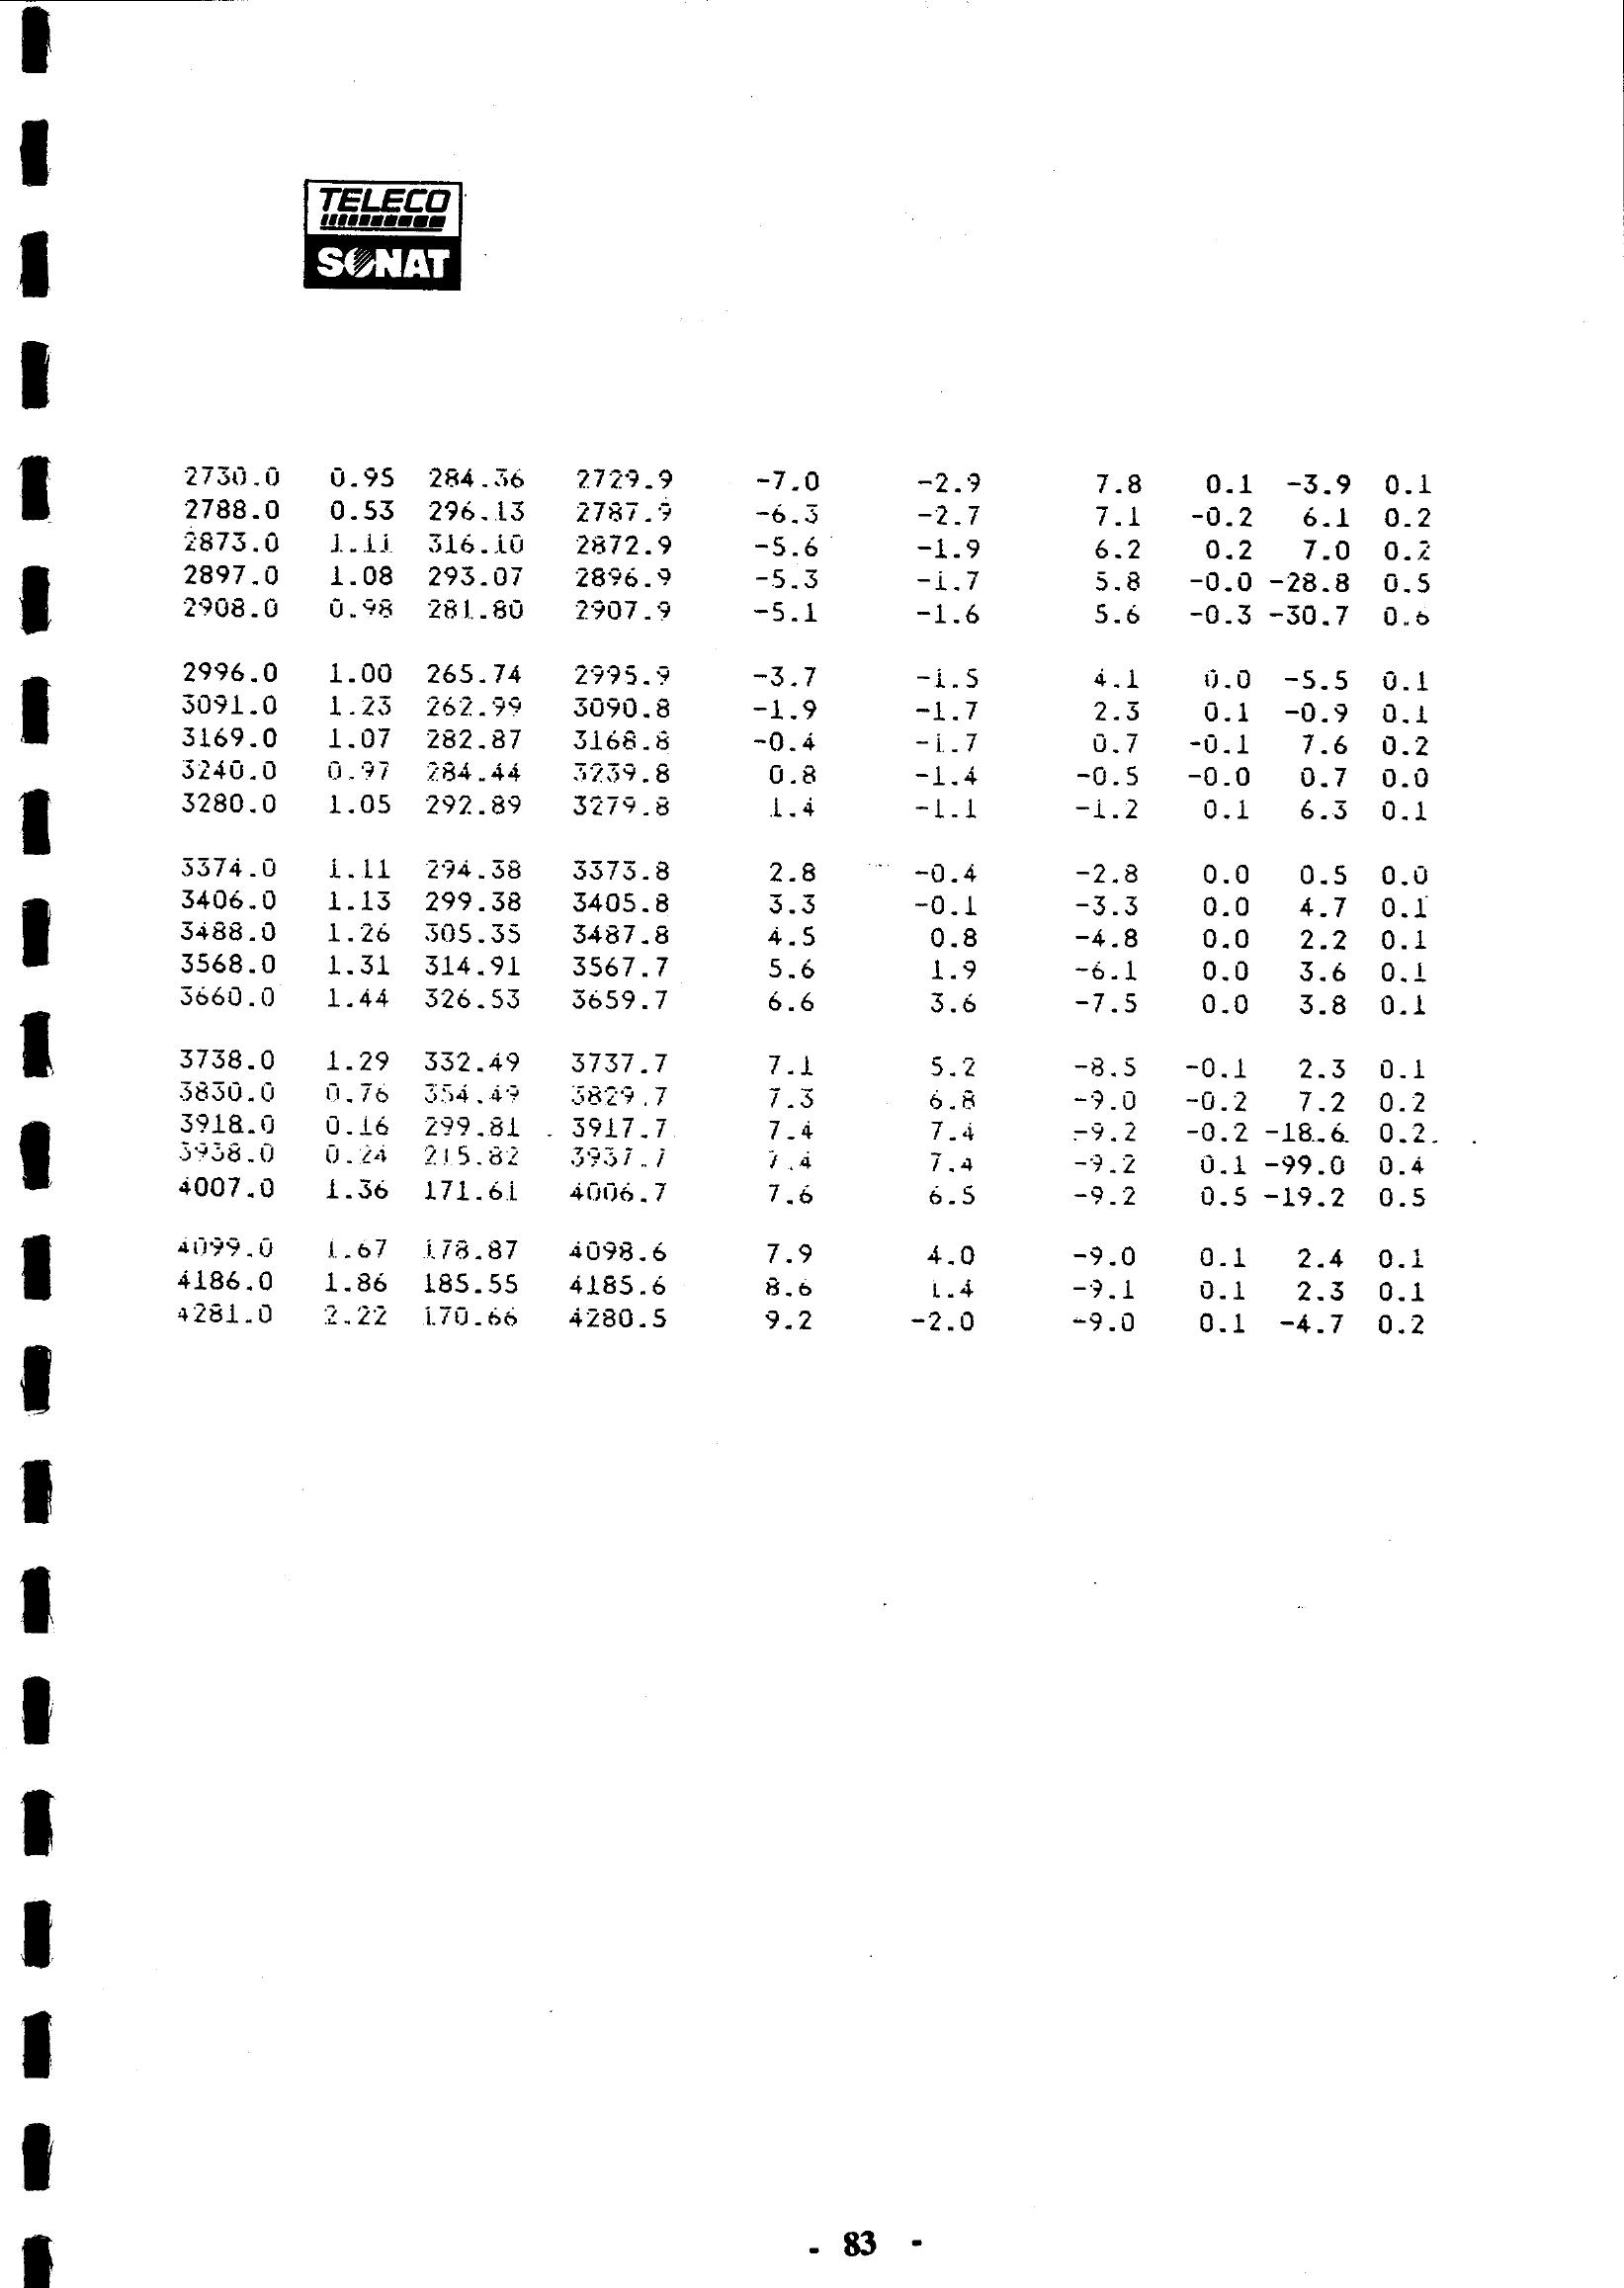table: (148, 415, 1494, 1390)
undefined: (281, 141, 513, 341)
